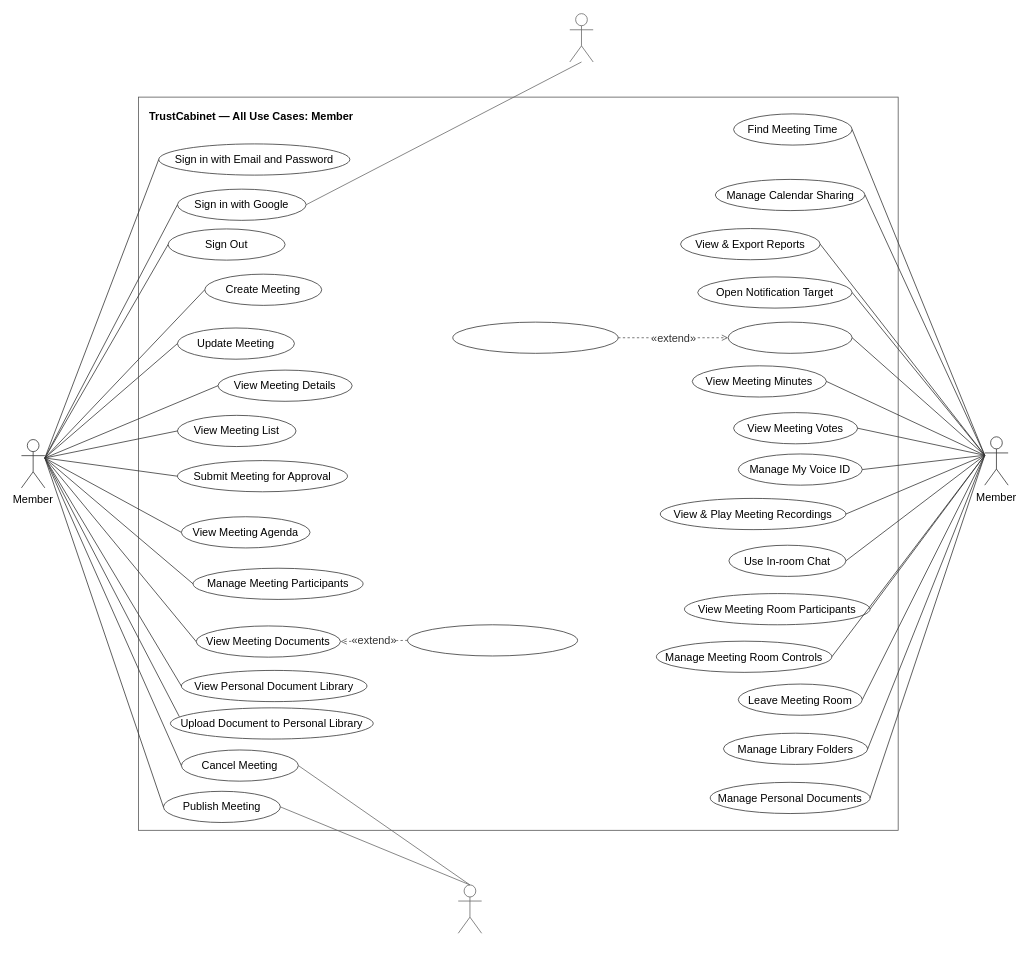
Image size: 1030x966. Some labels were removed from this diagram. Each missing label, with the centre of its shape:
"Comment on Meeting Document" belongs at [492,640].
"Mark Notifications as Read" belongs at [535,337].
"OAuth Provider" belongs at [581,37].
"Resend Email" belongs at [469,908].
"View Notifications" belongs at [789,337].
